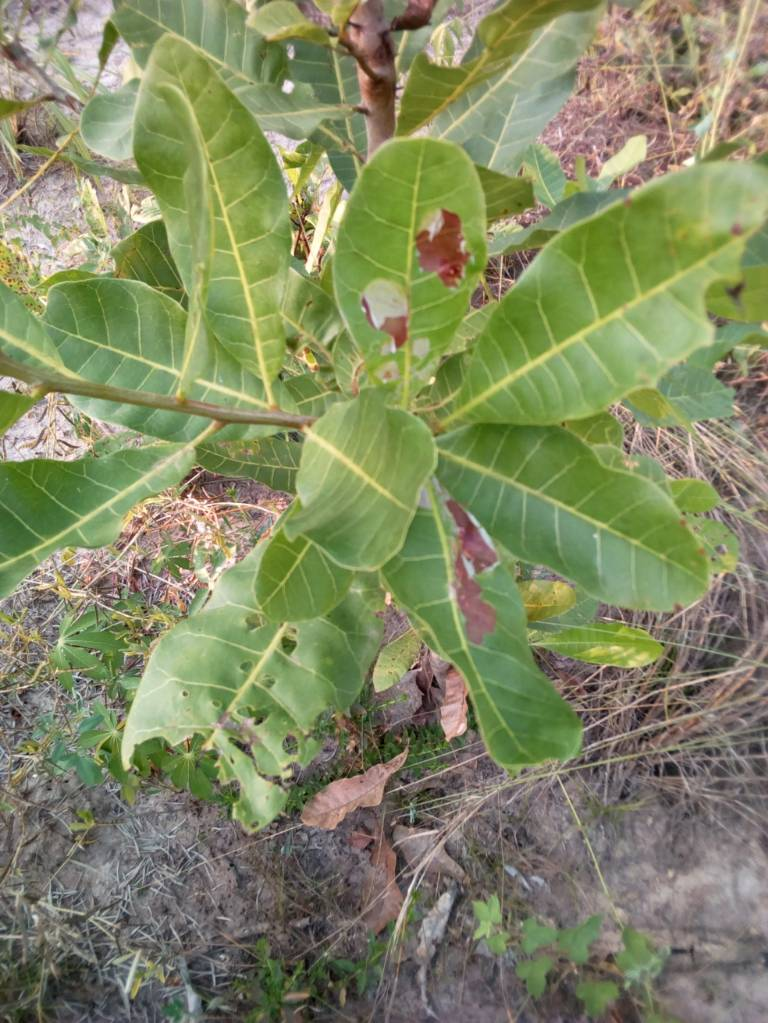Dysdercus wolkerii: (379, 480, 616, 775), (330, 128, 493, 403)
